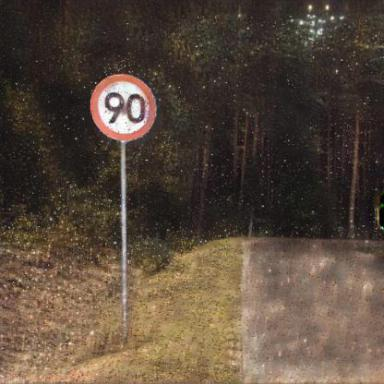Speed_limit_90: (92, 77, 155, 140)
